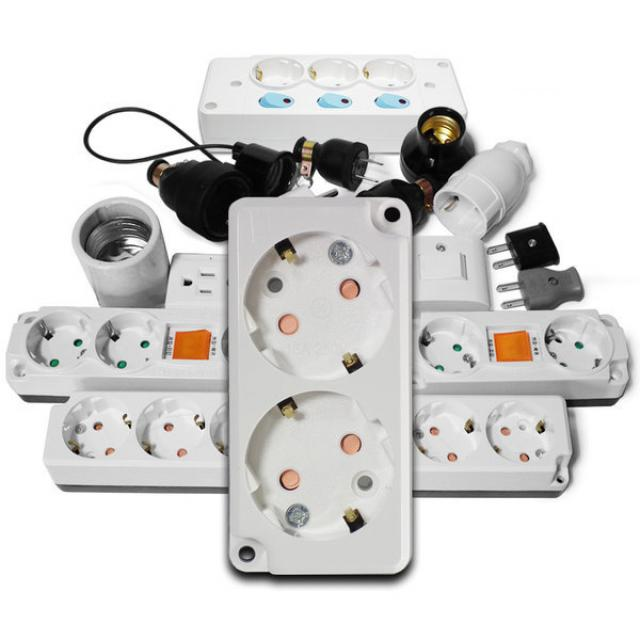typeb: (227, 182, 436, 636)
